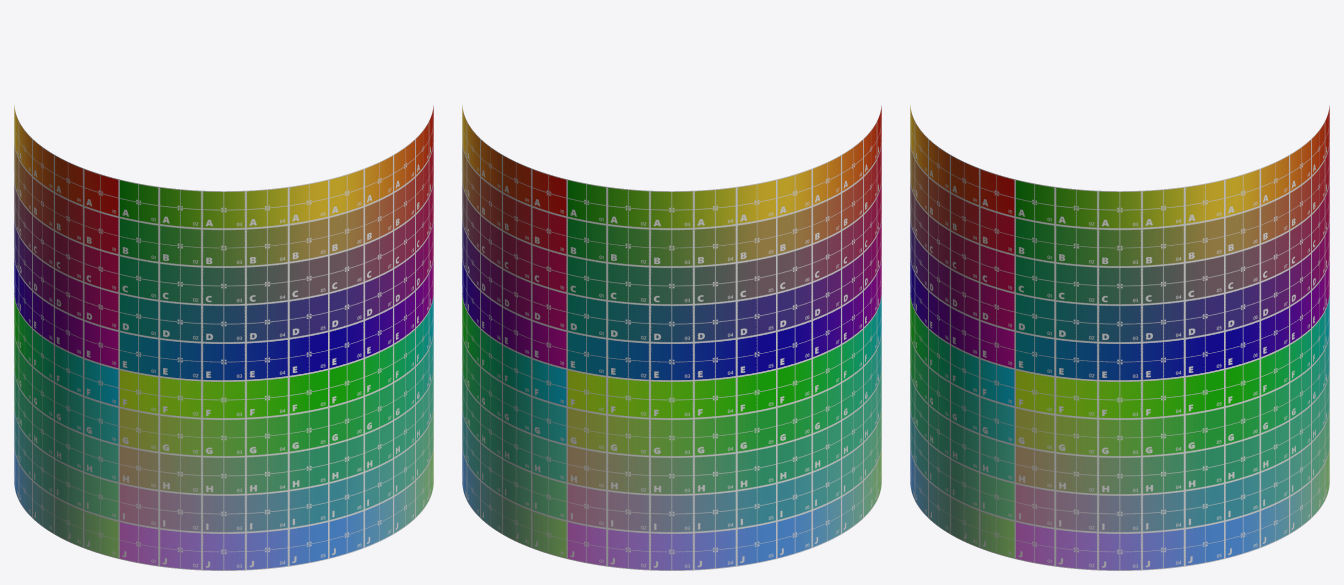
File: hiResCylinder.glb
3 views of the same model, side by side, from view 1: azimuth 30°, elevation 25°; view 2: azimuth 150°, elevation 25°; view 3: azimuth 270°, elevation 25° (orthographic).
Visible parts, largest first — view 1: hiResCylinder; view 2: hiResCylinder; view 3: hiResCylinder.
Boxes of the visible parts, bbox=[...] form: hiResCylinder: bbox=[14, 105, 433, 570]; hiResCylinder: bbox=[462, 105, 881, 570]; hiResCylinder: bbox=[910, 105, 1329, 570].
Size of the model in its own units: 6.42 by 6.42 by 6.42.
Materials: 1 (1 with a texture image).
